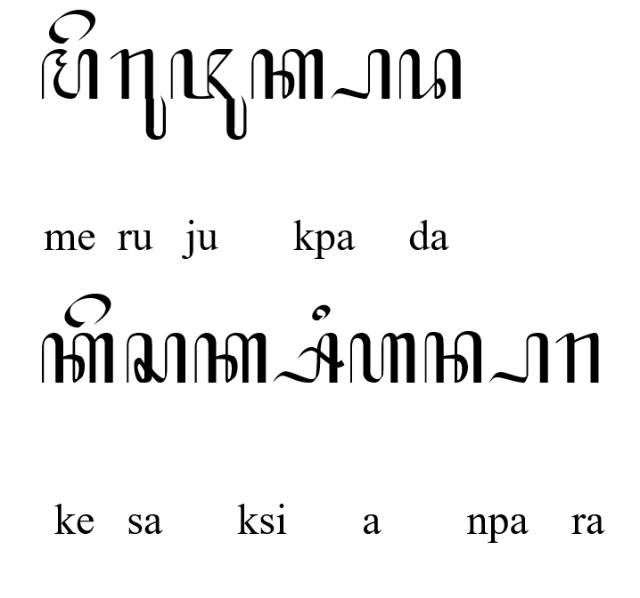_p: (486, 332, 550, 386), (398, 48, 462, 100), (329, 48, 391, 100)
_s: (271, 332, 345, 385)
e: (48, 7, 96, 44), (61, 293, 110, 329)
h: (348, 332, 418, 386)
i: (310, 304, 330, 322)
ju: (169, 48, 247, 140)
k: (38, 332, 114, 386), (192, 332, 268, 385), (250, 48, 324, 100)
m: (42, 48, 98, 100)
n: (424, 330, 482, 384)
r: (556, 332, 600, 386)
ru: (110, 48, 166, 142)
s: (125, 332, 187, 386)
